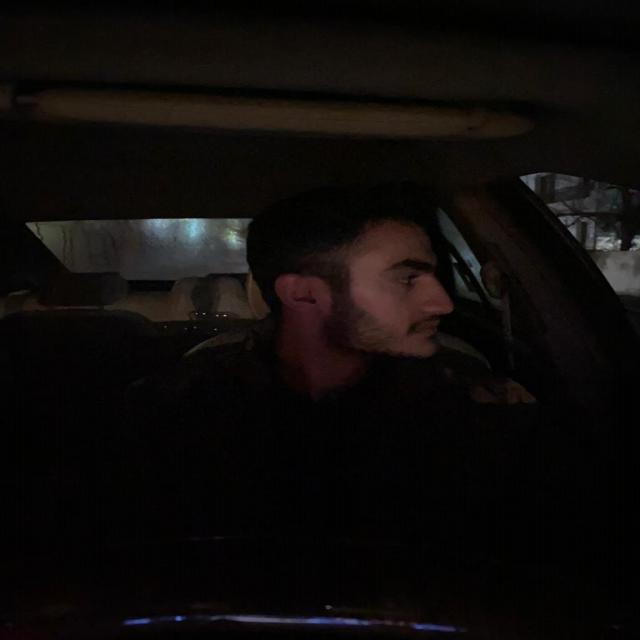LeftRight: (244, 205, 470, 377)
